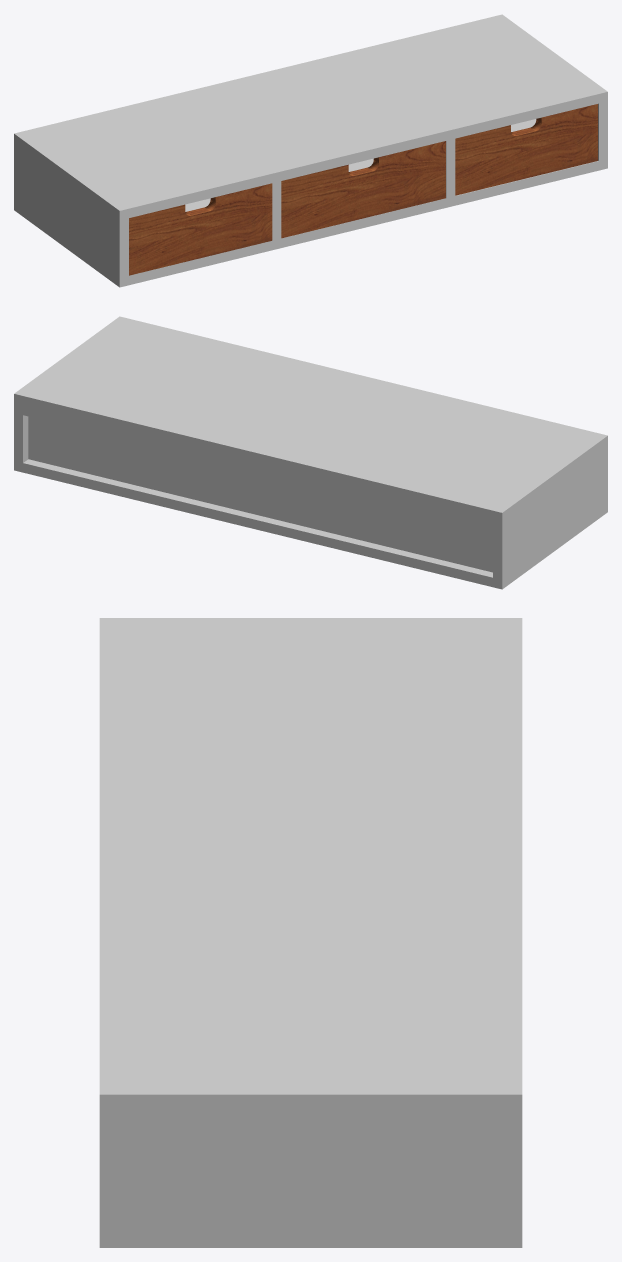
File: Ruby.glb
The picture shows the model from 3 angles, top to bottom: view 1: azimuth 30°, elevation 25°; view 2: azimuth 150°, elevation 25°; view 3: azimuth 270°, elevation 25°; orthographic projection. The views are drawn at different scales.
Parts seen in each view (by area): view 1: G-__558381, G-__558372, G-__558345, G-__558318; view 2: G-__558381; view 3: G-__558381.
Boxes of the visible parts, x1,y1,x2,y2 form: G-__558381: (14, 14, 607, 287); G-__558372: (281, 141, 445, 238); G-__558345: (129, 183, 272, 275); G-__558318: (455, 104, 597, 195); G-__558381: (14, 316, 607, 589); G-__558381: (99, 618, 522, 1247).
Size of the model in its own units: 0.8 by 0.12 by 0.3.
2 materials, 1 textured.
